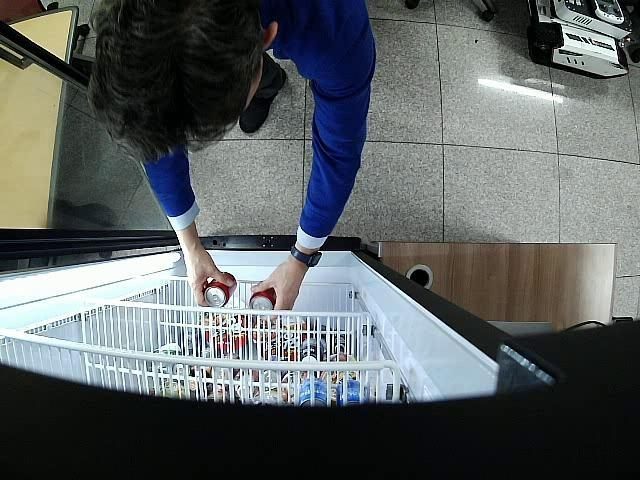11_cocaColaZero: (204, 272, 237, 307), (250, 288, 277, 318)
